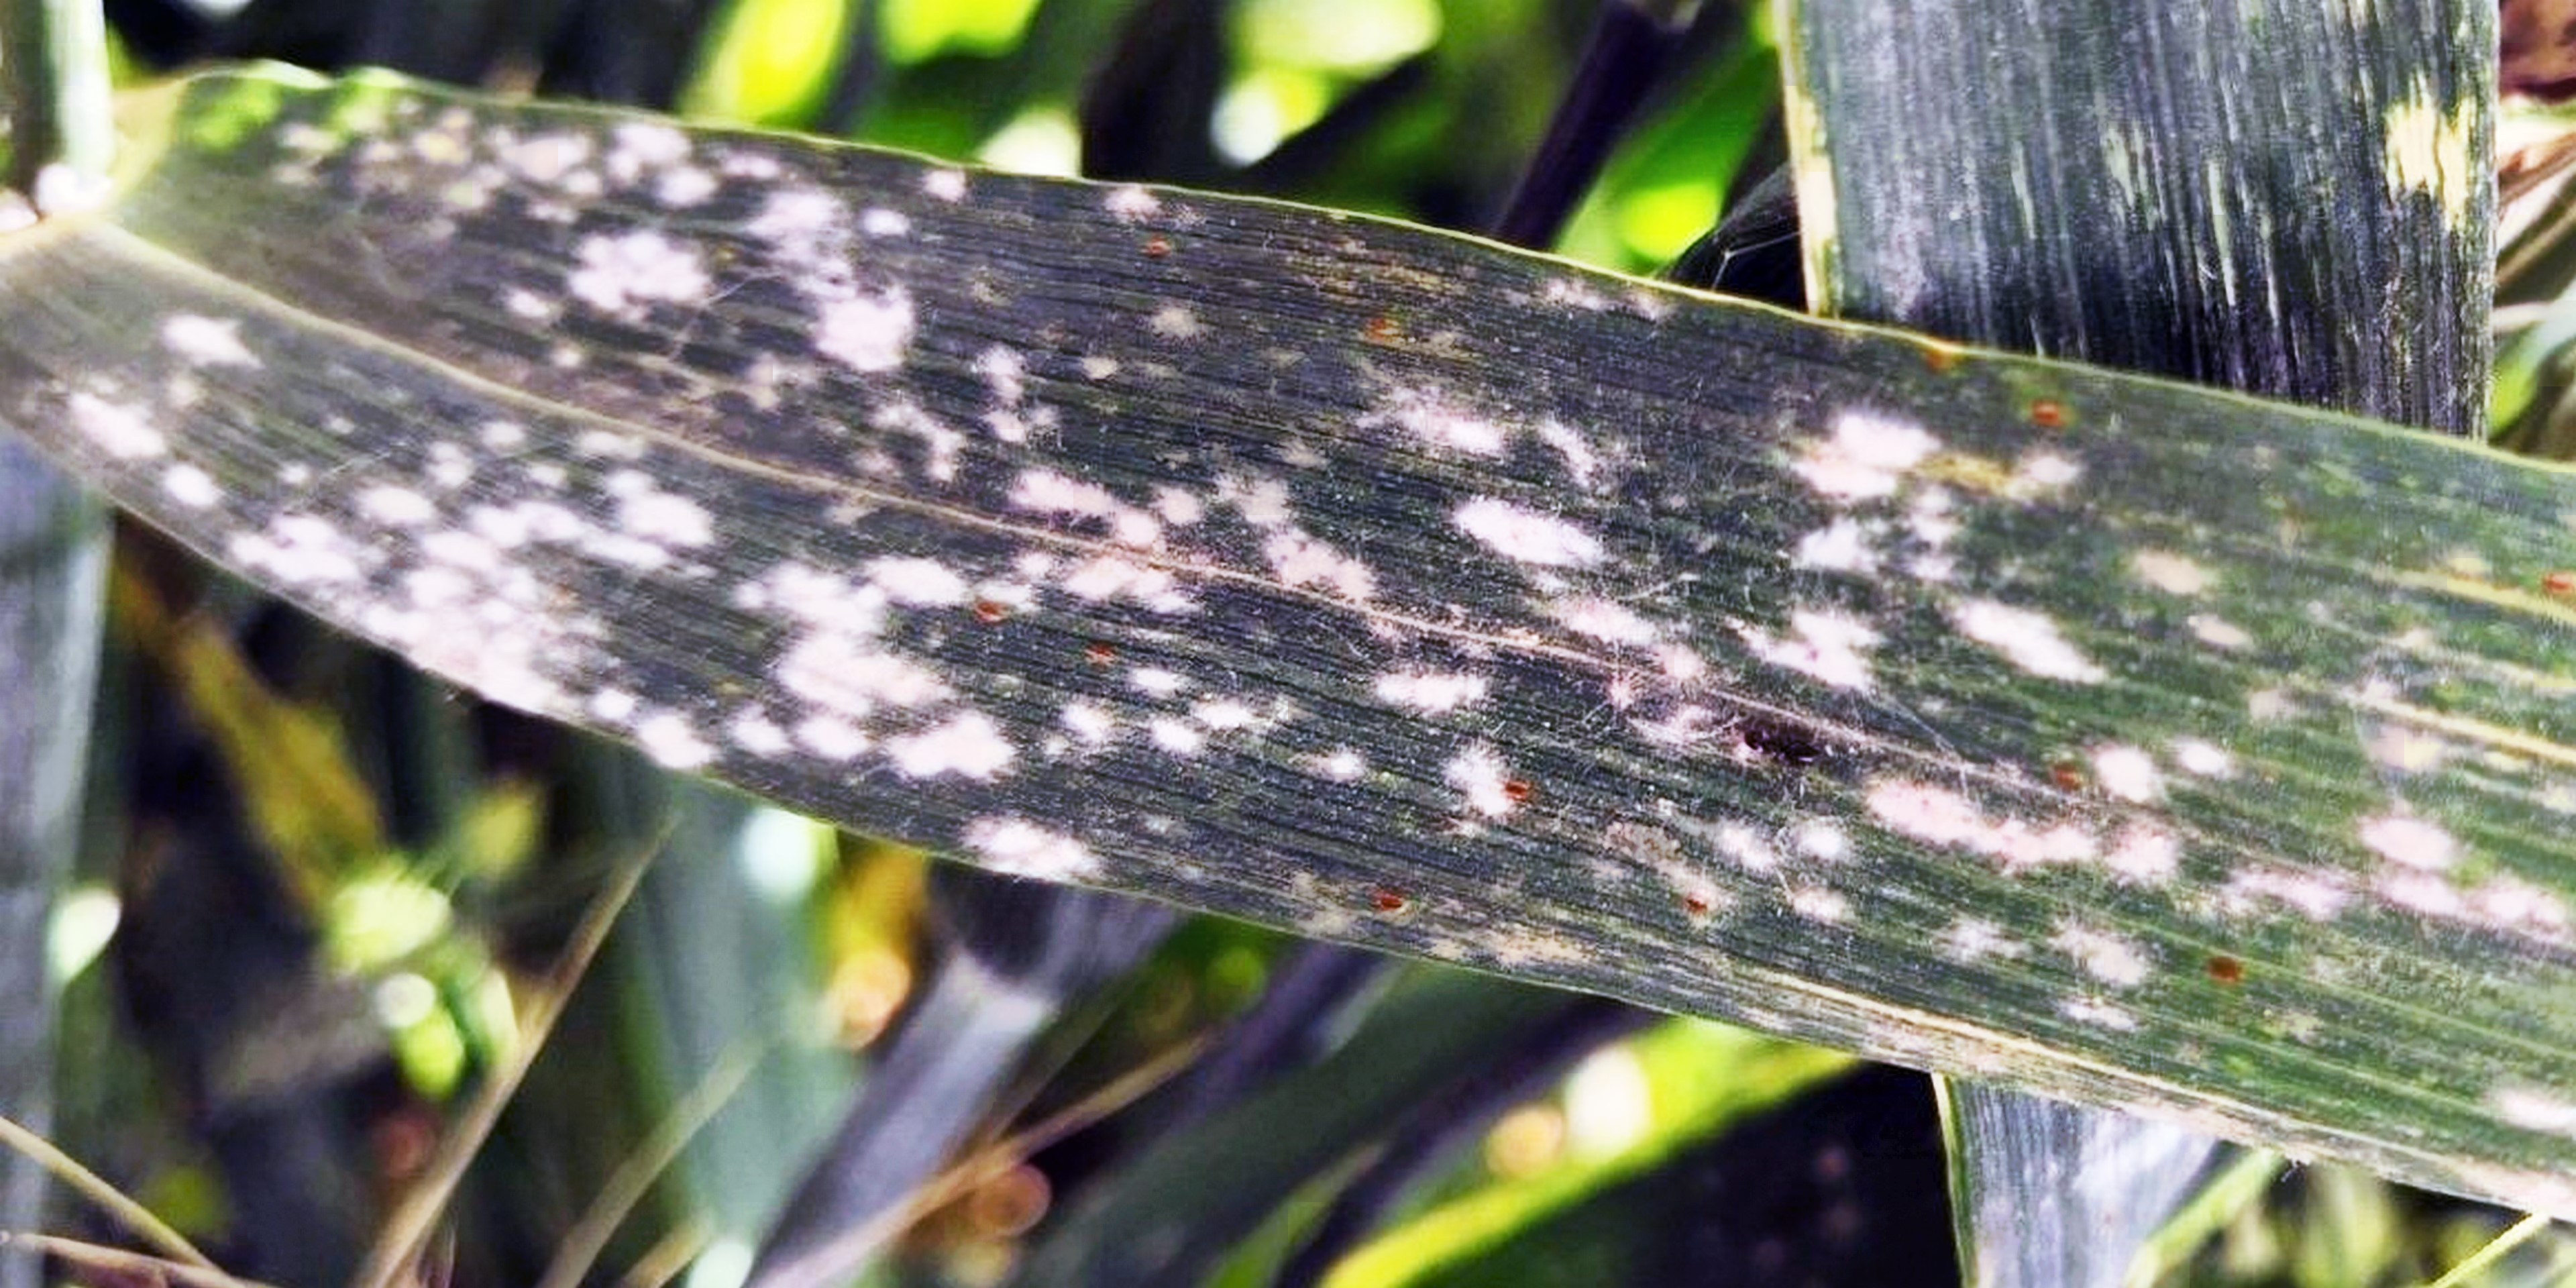Powdery Mildew: (501, 184, 2164, 1056)
